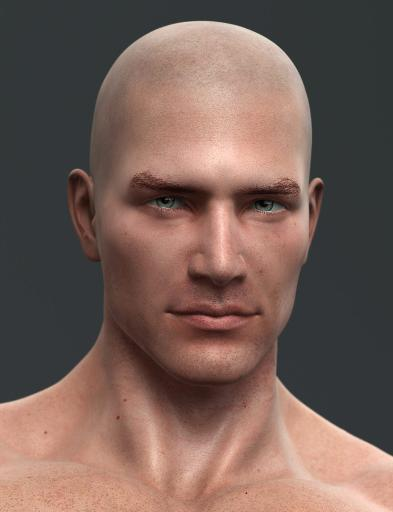left_eye: (243, 197, 294, 219)
left_lip_corner: (250, 308, 265, 321)
right_eye: (141, 193, 196, 216)
right_lip_corner: (163, 305, 179, 321)
